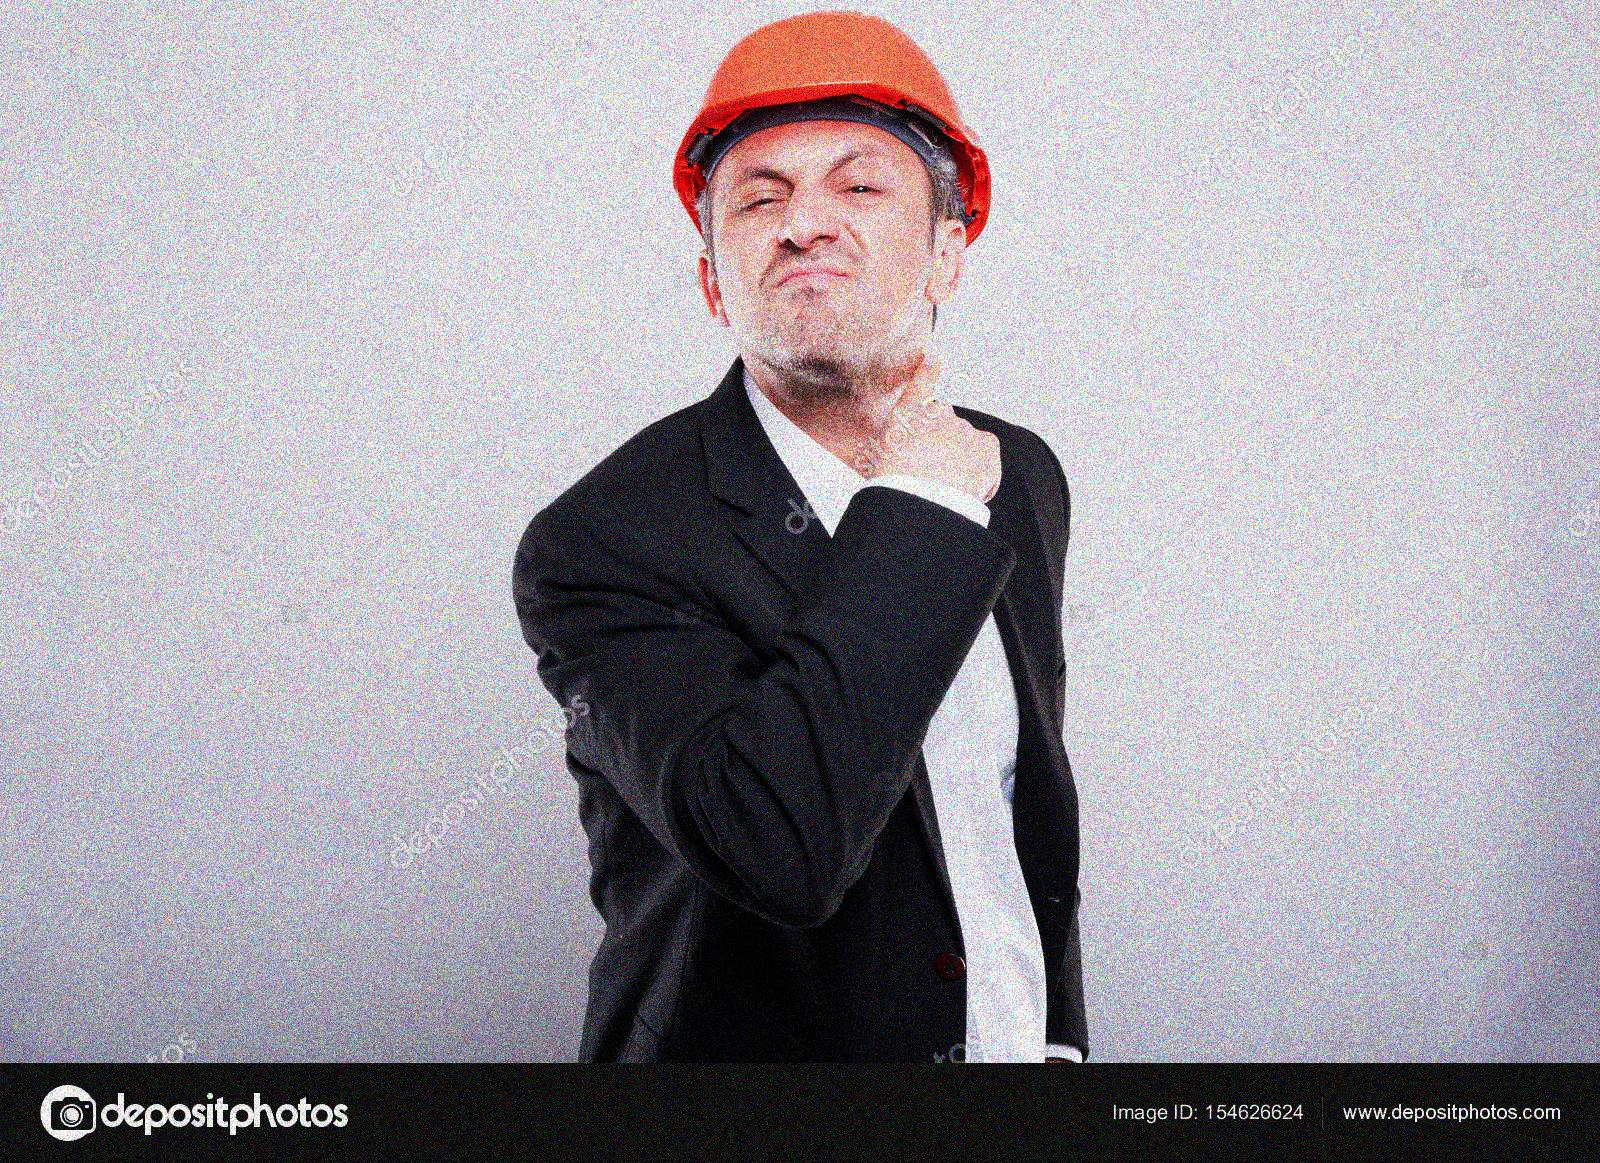helmet: (668, 2, 995, 381)
